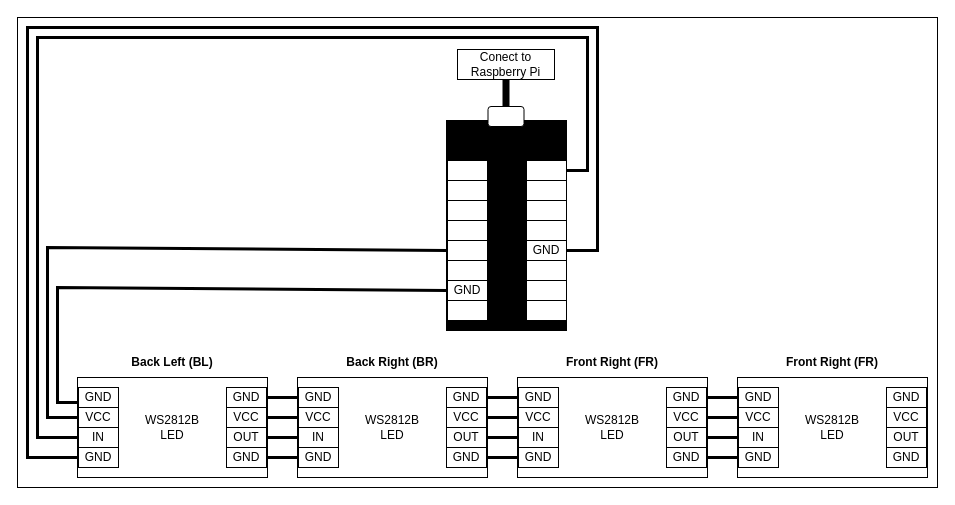
Some shapes in this 955 by 505 pixel diagram are drawn without their labels. Here are the shapes that lost their labels. From the top down, the centre of each, then its label:
At point 505,116: "USB".
At point 546,170: "D5".
At point 467,250: "5V".
